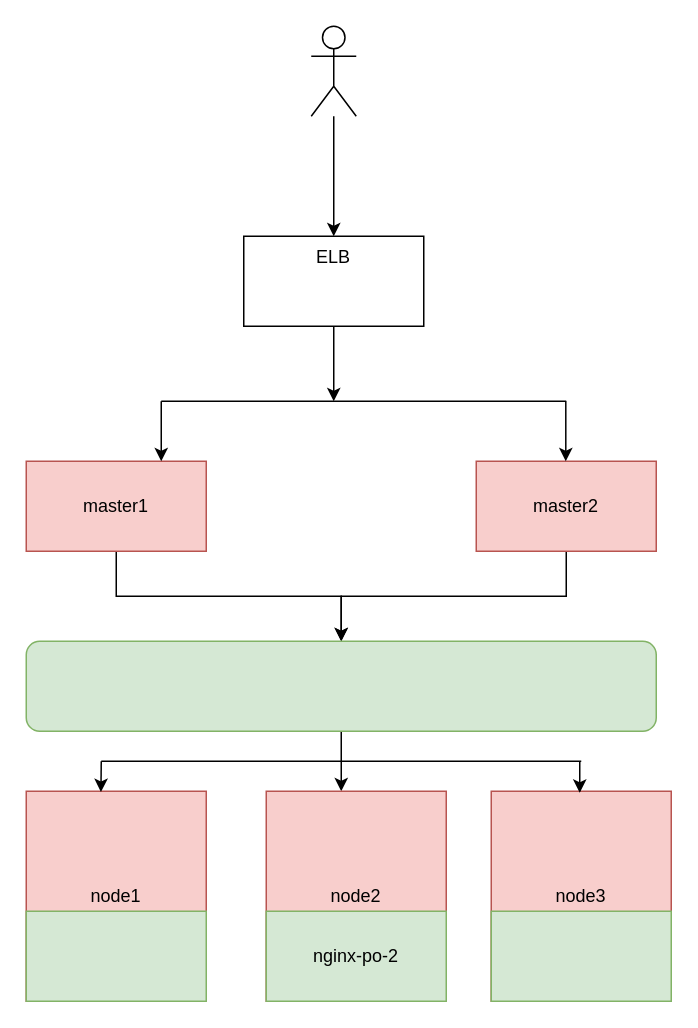
The diagram is 698 pixels wide and 1028 high, and some of its shapes have lost their labels. The shapes that lost their labels are listed below. From the top down, each one's centre as x and y in pixels, then its label:
point 333,70: Actor
point 340,685: nginx-service
point 115,955: nginx-po-1
point 580,955: nginx-po-3
